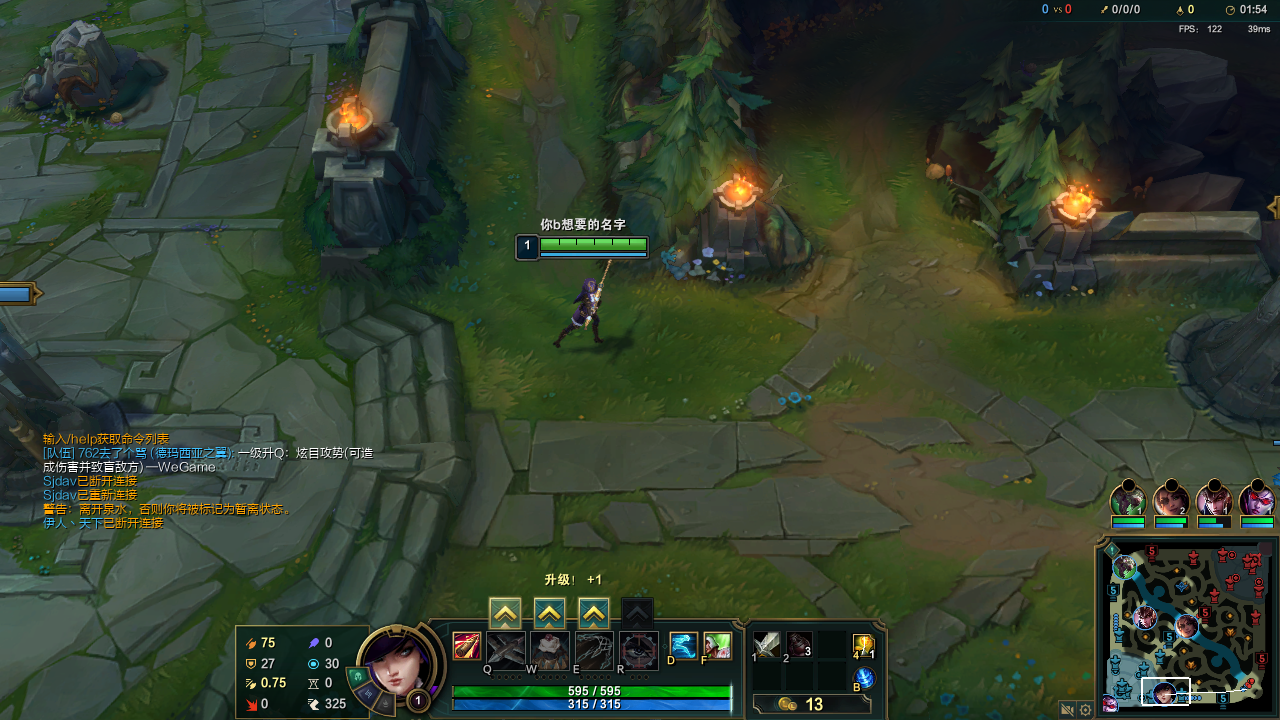Shenji: (582, 605, 607, 630), (534, 608, 565, 627), (495, 602, 521, 618)
